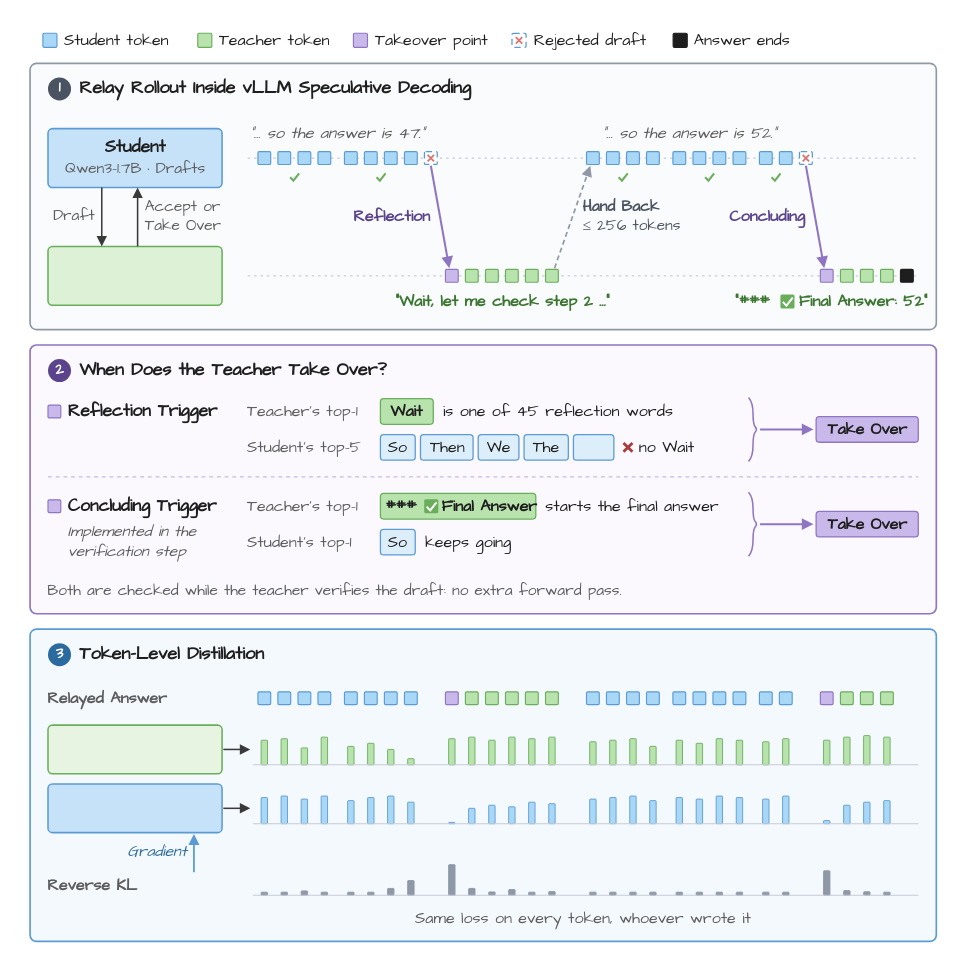
Some shapes in this 965 by 970 pixel diagram are drawn without their labels. Each missing label, with the centre of its shape:
Let: the point at 593,446
Student Being trained: the point at 134,808
Teacher Qwen3-4B · Verifies: the point at 134,275
Teacher Scorer Separate GPU: the point at 134,749
